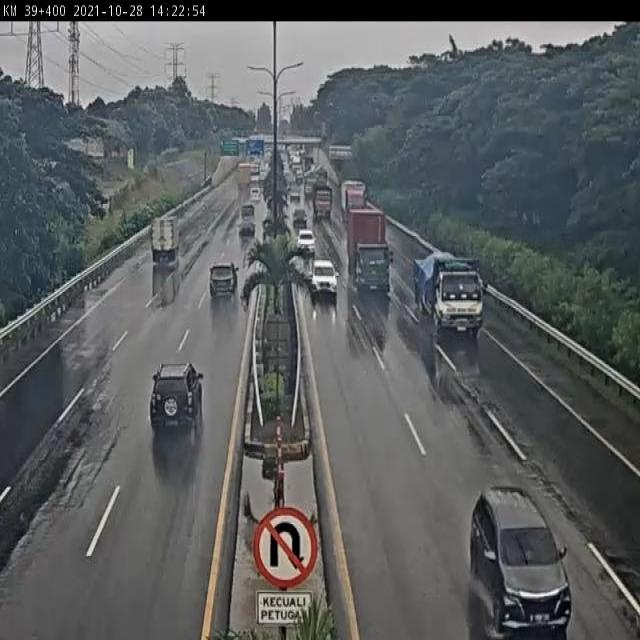Car: (470, 485, 572, 637), (146, 357, 205, 445), (310, 258, 339, 300), (208, 261, 238, 299), (292, 208, 308, 229)
Truck: (413, 242, 492, 337), (347, 208, 397, 302), (148, 219, 183, 264)
